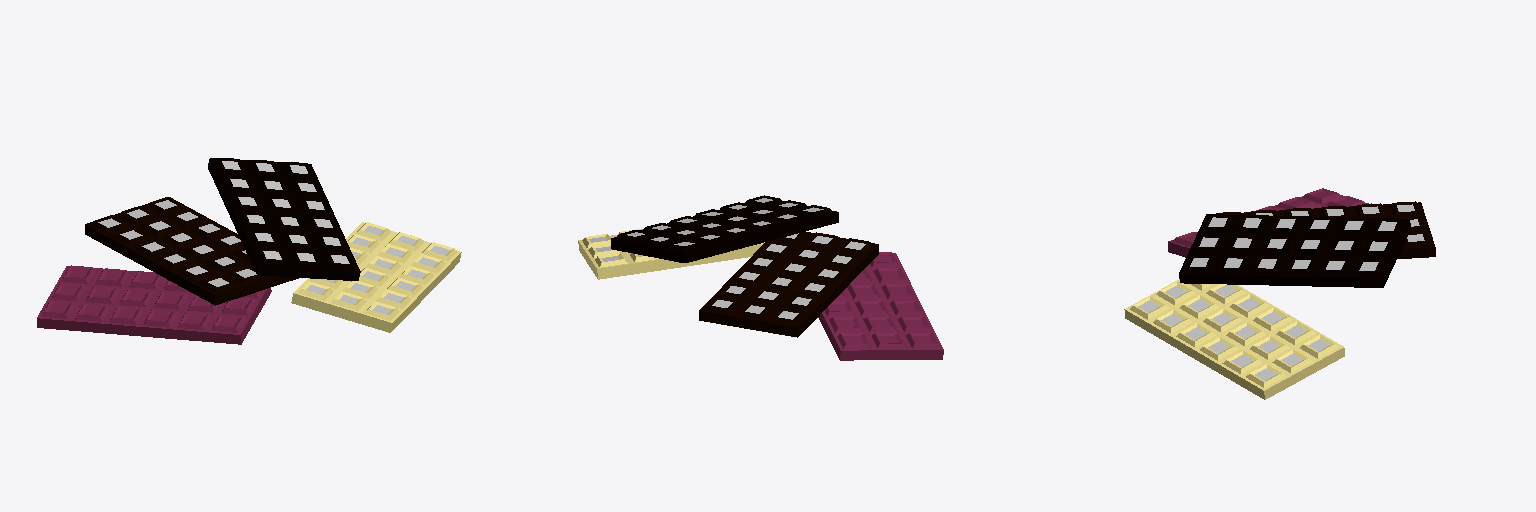
Rendered from ChocolateBars.obj.
3 views of the same model, side by side, from view 1: azimuth 30°, elevation 25°; view 2: azimuth 150°, elevation 25°; view 3: azimuth 270°, elevation 25° (orthographic).
Visible parts, largest first — view 1: Dark_Chocolate, Chocolate_Ruby, Chocolate, White_Chocolate; view 2: Chocolate, Chocolate_Ruby, Dark_Chocolate, White_Chocolate; view 3: Dark_Chocolate, White_Chocolate, Chocolate, Chocolate_Ruby.
Boxes of the visible parts, x1=… form: Dark_Chocolate: x1=208, y1=158, x2=360, y2=280; Chocolate_Ruby: x1=37, y1=265, x2=271, y2=344; Chocolate: x1=85, y1=197, x2=298, y2=305; White_Chocolate: x1=291, y1=222, x2=461, y2=332; Chocolate: x1=699, y1=232, x2=878, y2=337; Chocolate_Ruby: x1=818, y1=252, x2=943, y2=360; Dark_Chocolate: x1=611, y1=195, x2=838, y2=262; White_Chocolate: x1=578, y1=229, x2=764, y2=279; Dark_Chocolate: x1=1179, y1=214, x2=1410, y2=287; White_Chocolate: x1=1124, y1=279, x2=1344, y2=399; Chocolate: x1=1216, y1=201, x2=1435, y2=258; Chocolate_Ruby: x1=1168, y1=188, x2=1371, y2=257.
Bounding box in the file's own units: 25.84 × 6.05 × 17.6.